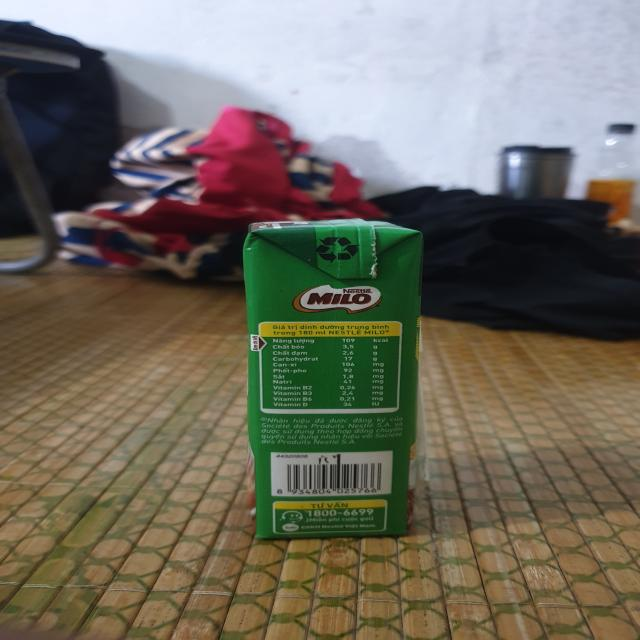Milo: (249, 219, 427, 539)
